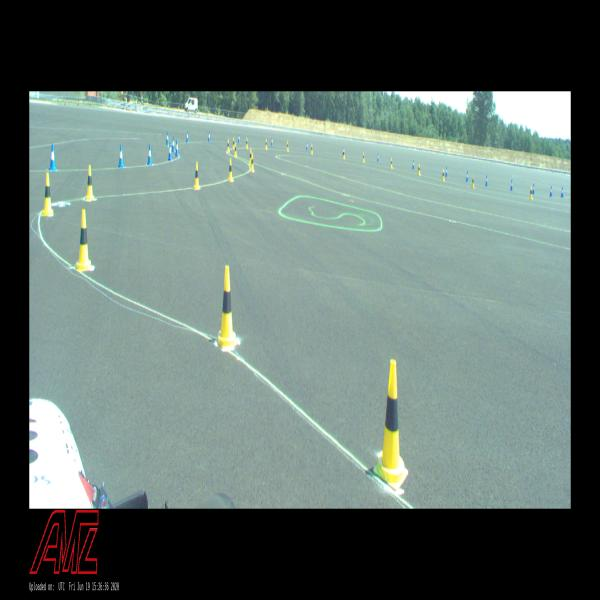blue_cone: (49, 144, 56, 171), (118, 144, 124, 168), (147, 144, 152, 165), (168, 142, 173, 161), (175, 140, 179, 157), (172, 137, 175, 152), (166, 132, 169, 145), (466, 171, 469, 182), (485, 175, 488, 186), (186, 132, 189, 143), (561, 187, 564, 198), (510, 180, 513, 190), (208, 132, 211, 142), (532, 184, 535, 194), (445, 167, 448, 177), (550, 186, 552, 196), (238, 134, 240, 144), (412, 160, 414, 169), (377, 153, 379, 162), (271, 137, 273, 146), (306, 142, 308, 151), (342, 148, 344, 156)
yellow_cone: (373, 359, 408, 490), (218, 266, 236, 346), (76, 210, 92, 270), (41, 173, 54, 216), (86, 165, 94, 200), (194, 162, 200, 189), (228, 158, 233, 182), (250, 153, 255, 172), (226, 139, 230, 153), (471, 176, 475, 188), (249, 149, 252, 164), (234, 143, 237, 157), (530, 186, 533, 200), (442, 169, 445, 181), (362, 152, 365, 163), (390, 158, 393, 168), (265, 139, 268, 149), (286, 142, 289, 152), (232, 138, 235, 148), (246, 138, 248, 149), (343, 149, 345, 159), (418, 164, 420, 174), (310, 145, 312, 154)
